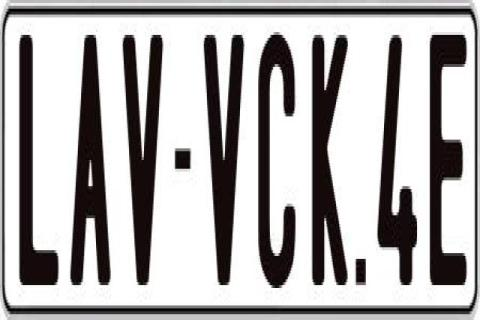0: (376, 35, 418, 285)
A: (71, 32, 111, 291)
C: (255, 27, 296, 286)
E: (428, 27, 464, 280)
K: (311, 29, 353, 279)
L: (20, 35, 64, 297)
V: (122, 29, 164, 291), (204, 32, 245, 294)
